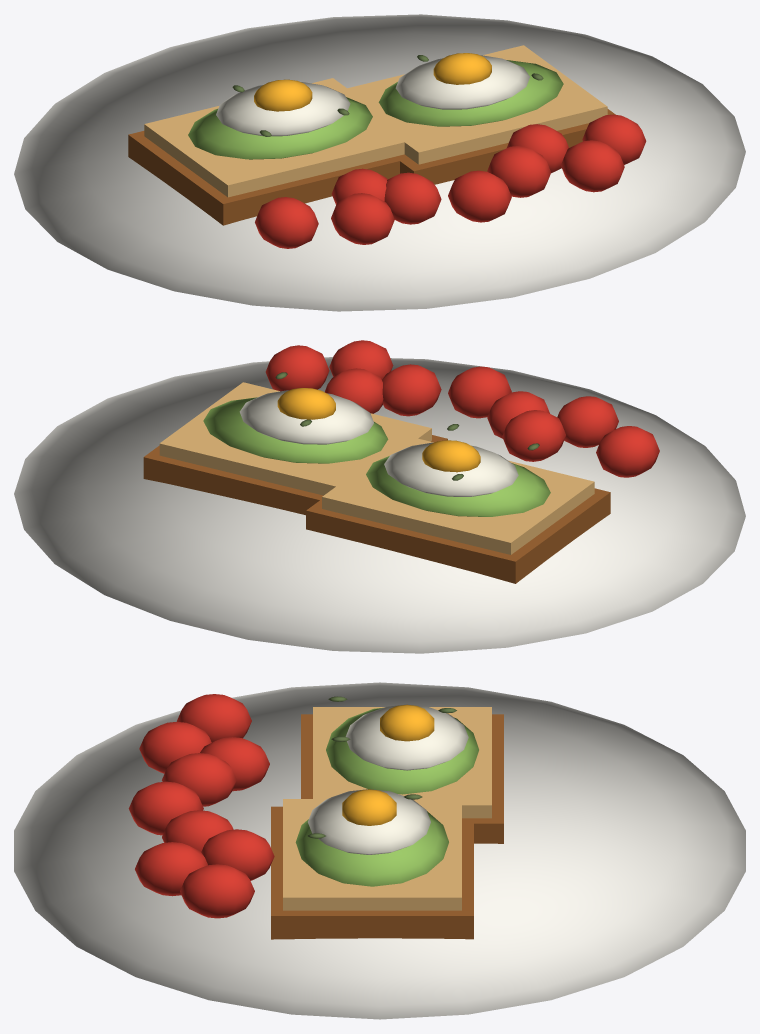
Rendered from avocado-toast.glb.
The picture shows the model from 3 angles, top to bottom: view 1: azimuth 30°, elevation 25°; view 2: azimuth 150°, elevation 25°; view 3: azimuth 270°, elevation 25°; orthographic projection. The views are drawn at different scales.
Parts seen in each view (by area): view 1: White ceramic plate, Golden toast 1, Golden toast 2, Toast crust 1, Avocado mash 1, Avocado mash 2, Egg white 2, Egg white 1, Strawberry 2, Strawberry 4, Strawberry 6, Strawberry 1 (+8 smaller); view 2: White ceramic plate, Golden toast 1, Toast crust 1, Golden toast 2, Avocado mash 2, Toast crust 2, Avocado mash 1, Egg white 2, Egg white 1, Strawberry 1, Strawberry 8, Strawberry 5 (+8 smaller); view 3: White ceramic plate, Golden toast 2, Toast crust 2, Golden toast 1, Avocado mash 2, Egg white 1, Egg white 2, Avocado mash 1, Toast crust 1, Strawberry 7, Strawberry 6, Strawberry 3 (+8 smaller).
Boxes of the visible parts, x1,y1,x2,y2 form: White ceramic plate: (14,14,745,311); Golden toast 1: (144,78,416,197); Golden toast 2: (337,45,607,164); Toast crust 1: (128,131,409,225); Avocado mash 1: (188,97,372,159); Avocado mash 2: (378,60,563,126); Egg white 2: (395,55,529,109); Egg white 1: (216,82,350,136); Strawberry 2: (331,193,394,244); Strawberry 4: (448,170,511,222); Strawberry 6: (561,140,624,192); Strawberry 1: (255,197,318,248); White ceramic plate: (14,357,745,653); Golden toast 1: (322,438,594,554); Toast crust 1: (306,488,610,583); Golden toast 2: (159,382,431,495); Avocado mash 2: (203,397,388,463); Toast crust 2: (143,435,447,515); Avocado mash 1: (366,456,550,516); Egg white 2: (239,390,373,444); Egg white 1: (384,442,518,496); Strawberry 1: (596,426,659,477); Strawberry 8: (502,410,565,461); Strawberry 5: (382,364,441,416); White ceramic plate: (14,682,745,1019); Golden toast 2: (283,799,461,910); Toast crust 2: (271,806,473,939); Golden toast 1: (313,707,491,818); Avocado mash 2: (295,811,448,886); Egg white 1: (345,704,468,770); Egg white 2: (308,789,430,854); Avocado mash 1: (326,707,478,794); Toast crust 1: (301,714,503,843); Strawberry 7: (180,864,254,918); Strawberry 6: (135,842,207,896); Strawberry 3: (162,753,236,806).
Size of the model in its own units: 5.3 by 0.83 by 4.86.
